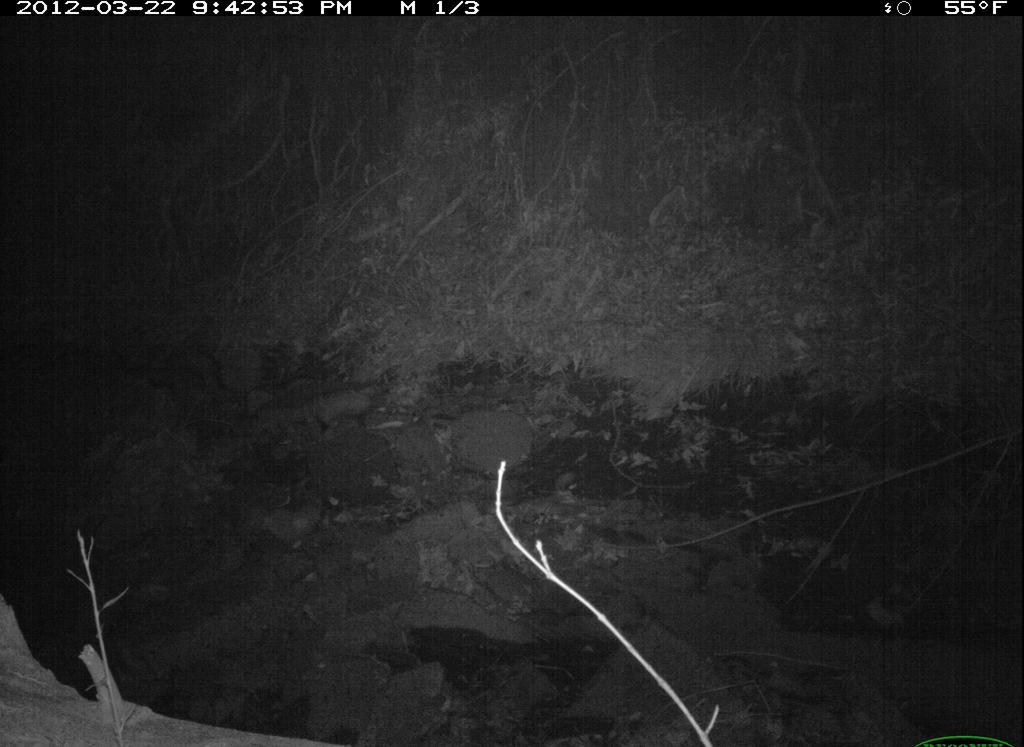opossum: (239, 369, 456, 452)
